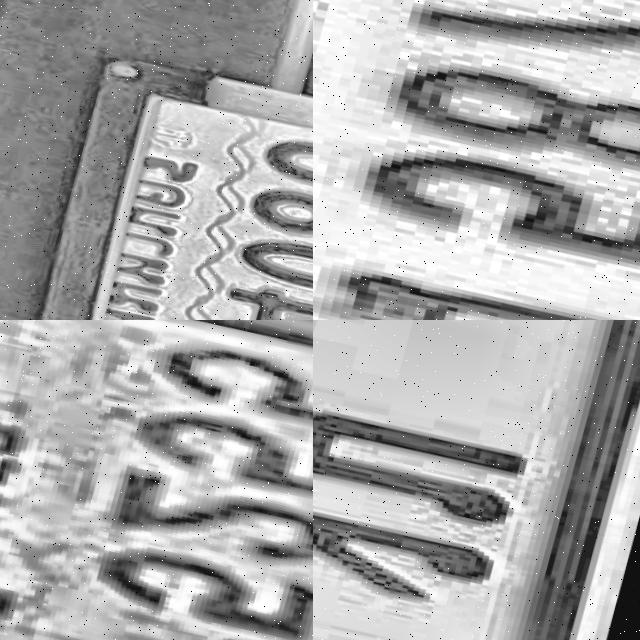license-plate: (313, 0, 640, 320), (313, 320, 640, 640), (0, 320, 313, 640), (0, 34, 313, 320)
